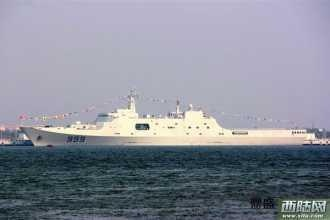warship: (18, 86, 327, 150)
